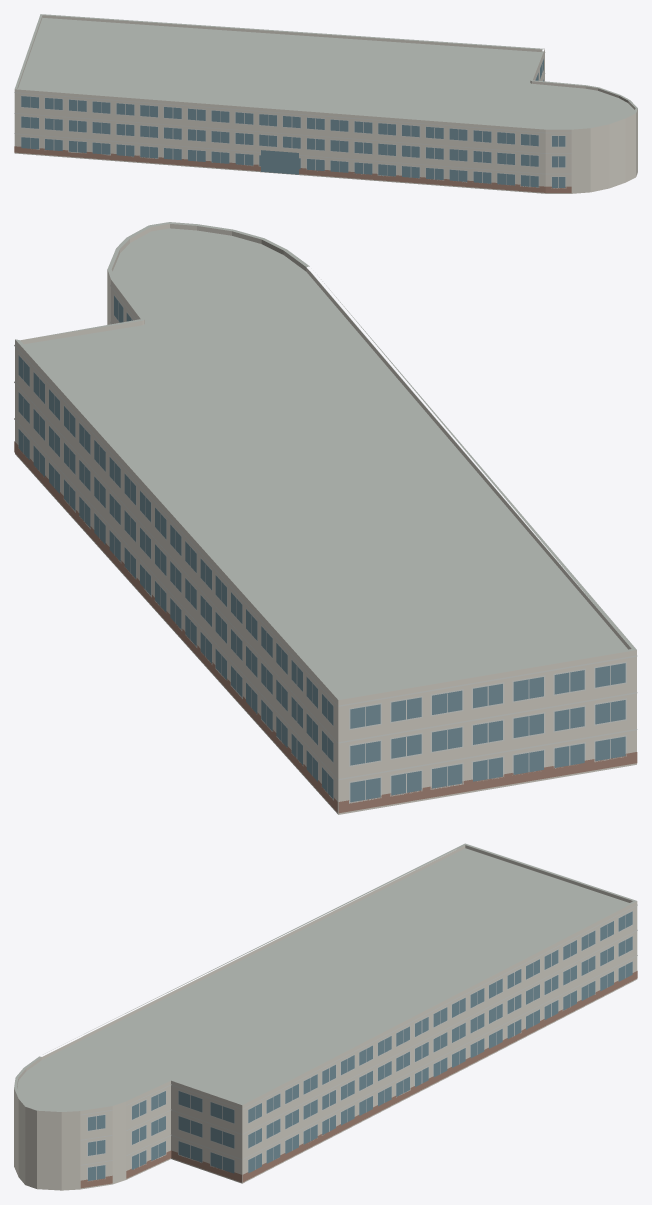
File: public-e7754bf0-4969-415a-a4fb-b4724c8441ee.glb
The picture shows the model from 3 angles, top to bottom: view 1: azimuth 30°, elevation 25°; view 2: azimuth 150°, elevation 25°; view 3: azimuth 270°, elevation 25°; orthographic projection. The views are drawn at different scales.
Visible parts, largest first — view 1: public-e7754bf0-4969-415a-a4fb-b4724c8441ee; view 2: public-e7754bf0-4969-415a-a4fb-b4724c8441ee; view 3: public-e7754bf0-4969-415a-a4fb-b4724c8441ee.
Boxes of the visible parts, box(x1,y1,x2,y2) form: public-e7754bf0-4969-415a-a4fb-b4724c8441ee: box(14, 14, 637, 193); public-e7754bf0-4969-415a-a4fb-b4724c8441ee: box(14, 222, 637, 814); public-e7754bf0-4969-415a-a4fb-b4724c8441ee: box(14, 843, 637, 1190).
Bounding box in the file's own units: 67.25 × 9.15 × 65.94.
